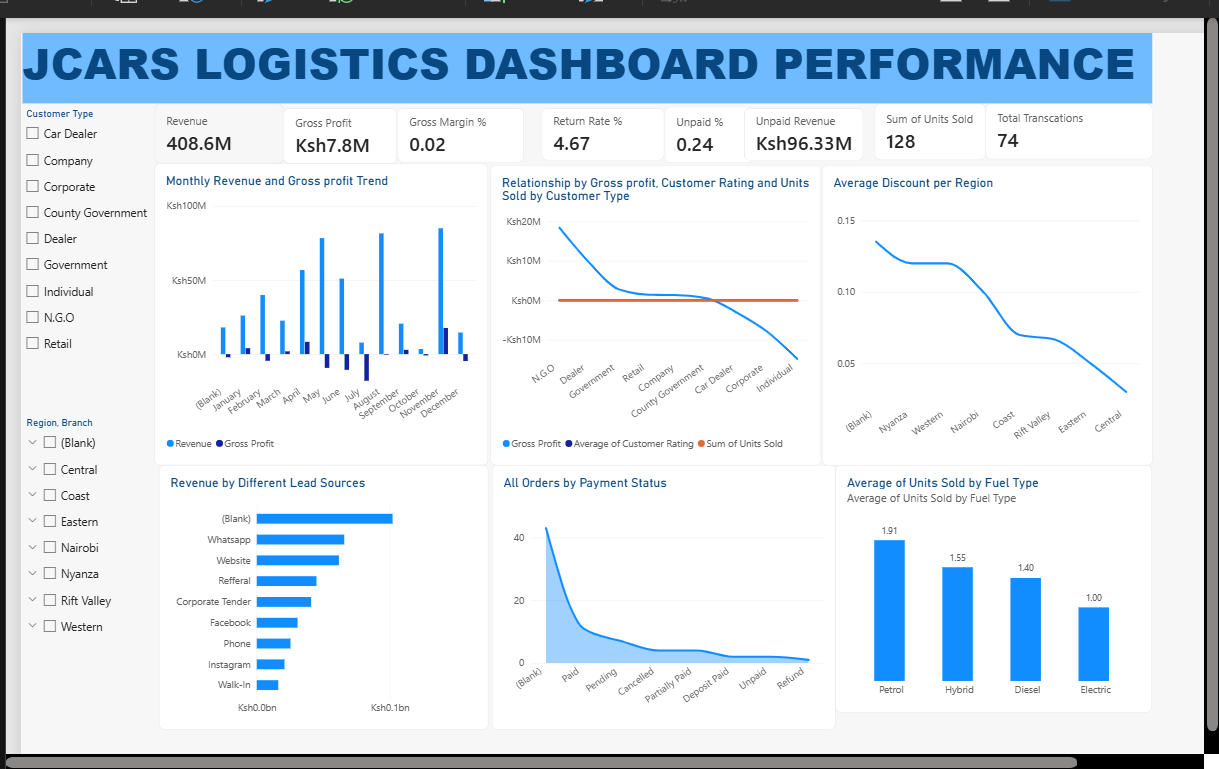

The page's visual inventory and layout, read from the dashboard file:
{"tool":"powerbi","page":{"name":"Page 1","canvas":[1920,1080],"ordinal":0},"visuals":[{"type":"textbox","box":[10.2,167.3,112.2,82.7],"z":1001},{"type":"cardVisual","fields":{"Data":["jcars_fact_table.Revenue"]},"box":[193.8,102.1,187.5,87.5],"z":1002},{"type":"cardVisual","fields":{"Data":["jcars_fact_table.Gross Profit"]},"box":[381.2,108.3,164.6,81.2],"z":1003},{"type":"cardVisual","fields":{"Data":["jcars_fact_table.Gross Margin %"]},"box":[545.8,108.3,183.3,79.2],"z":1004},{"type":"cardVisual","fields":{"Data":["jcars_fact_table.Unpaid %"]},"box":[932.6,106.5,129.6,82.7],"z":1005},{"type":"cardVisual","fields":{"Data":["Sum(jcars_fact_table.Units Sold)"]},"box":[1237,102.2,161.2,82.7],"z":1006},{"type":"slicer","fields":{"Values":["dim_location.Region","dim_location.Branch"]},"box":[0,556.5,197.9,358.3],"z":1007},{"type":"slicer","fields":{"Values":["dim_customer.Customer Type"]},"box":[0,108.7,187.5,418.1],"z":1008},{"type":"clusteredColumnChart","title":"Monthly Revenue and Gross profit Trend","fields":{"Category":["date_table.Delivery Date.Variation.Date Hierarchy.Month"],"Y":["jcars_fact_table.Revenue","jcars_fact_table.Gross Profit"]},"box":[193.8,189.6,483.3,437.5],"z":1009},{"type":"lineChart","title":"Relationship by Gross profit, Customer Rating and Units Sold  by  Customer Type","fields":{"Category":["dim_customer.Customer Type"],"Y":["jcars_fact_table.Gross Profit","Avg(jcars_fact_table.Customer Rating)","Sum(jcars_fact_table.Units Sold)"]},"box":[681.2,191.7,479.2,435.4],"z":1010},{"type":"cardVisual","fields":{"Data":["jcars_fact_table.Total Transcations"]},"box":[1397.8,102.2,242.4,81.4],"z":1011},{"type":"clusteredBarChart","title":"Revenue by Different Lead Sources","fields":{"Category":["dim_sales_rep.Lead Source"],"Y":["jcars_fact_table.Revenue"]},"box":[200,627.1,477.1,383.3],"z":1012},{"type":"lineChart","title":"Average Discount per Region","fields":{"Category":["dim_location.Region"],"Y":["jcars_fact_table.Average Discount"]},"box":[1160.4,191.7,479,435],"z":1013},{"type":"areaChart","title":"All Orders by Payment Status","fields":{"Category":["dim_order_status.Payment Status"],"Y":["jcars_fact_table.All Orders"]},"box":[683.3,627.1,497.9,383.3],"z":1014},{"type":"shape","title":"JCARS  LOGISTICS DASHBOARD PERFORMANCE","box":[2.1,0,1637.5,102.1],"z":1015},{"type":"cardVisual","fields":{"Data":["jcars_fact_table.Return Rate %"]},"box":[754.3,108.7,178.3,76.1],"z":1016},{"type":"clusteredColumnChart","title":"Average of Units Sold by Fuel Type","fields":{"Category":["dim_cars.Fuel Type"],"Y":["Avg(jcars_fact_table.Units Sold)"]},"box":[1181.2,627.1,458.3,358.3],"z":1017},{"type":"cardVisual","fields":{"Data":["jcars_fact_table.Unpaid Revenue"]},"box":[1047.8,108.7,173.9,76.1],"z":1018}]}

Visuals, with their boxes on the page's 1920x1080 design canvas (x1, y1, x2, y2). These are canvas units, not pixel positions in the 1219x769 screenshot, which may show the page scaled, cropped or inside an application window:
textbox: locate(10, 167, 122, 250)
cardVisual - jcars_fact_table.Revenue: locate(194, 102, 381, 190)
cardVisual - jcars_fact_table.Gross Profit: locate(381, 108, 546, 190)
cardVisual - jcars_fact_table.Gross Margin %: locate(546, 108, 729, 188)
cardVisual - jcars_fact_table.Unpaid %: locate(933, 106, 1062, 189)
cardVisual - Sum(jcars_fact_table.Units Sold): locate(1237, 102, 1398, 185)
slicer - dim_location.Region x dim_location.Branch: locate(0, 556, 198, 915)
slicer - dim_customer.Customer Type: locate(0, 109, 188, 527)
"Monthly Revenue and Gross profit Trend" clusteredColumnChart: locate(194, 190, 677, 627)
"Relationship by Gross profit, Customer Rating and Units Sold  by  Customer Type" lineChart: locate(681, 192, 1160, 627)
cardVisual - jcars_fact_table.Total Transcations: locate(1398, 102, 1640, 184)
"Revenue by Different Lead Sources" clusteredBarChart: locate(200, 627, 677, 1010)
"Average Discount per Region" lineChart: locate(1160, 192, 1639, 627)
"All Orders by Payment Status" areaChart: locate(683, 627, 1181, 1010)
"JCARS  LOGISTICS DASHBOARD PERFORMANCE" shape: locate(2, 0, 1640, 102)
cardVisual - jcars_fact_table.Return Rate %: locate(754, 109, 933, 185)
"Average of Units Sold by Fuel Type" clusteredColumnChart: locate(1181, 627, 1640, 985)
cardVisual - jcars_fact_table.Unpaid Revenue: locate(1048, 109, 1222, 185)
